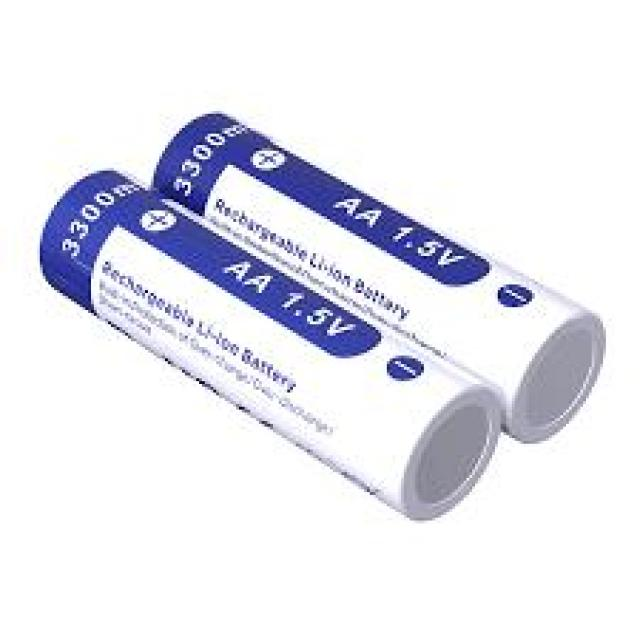AA: (31, 105, 612, 526)
